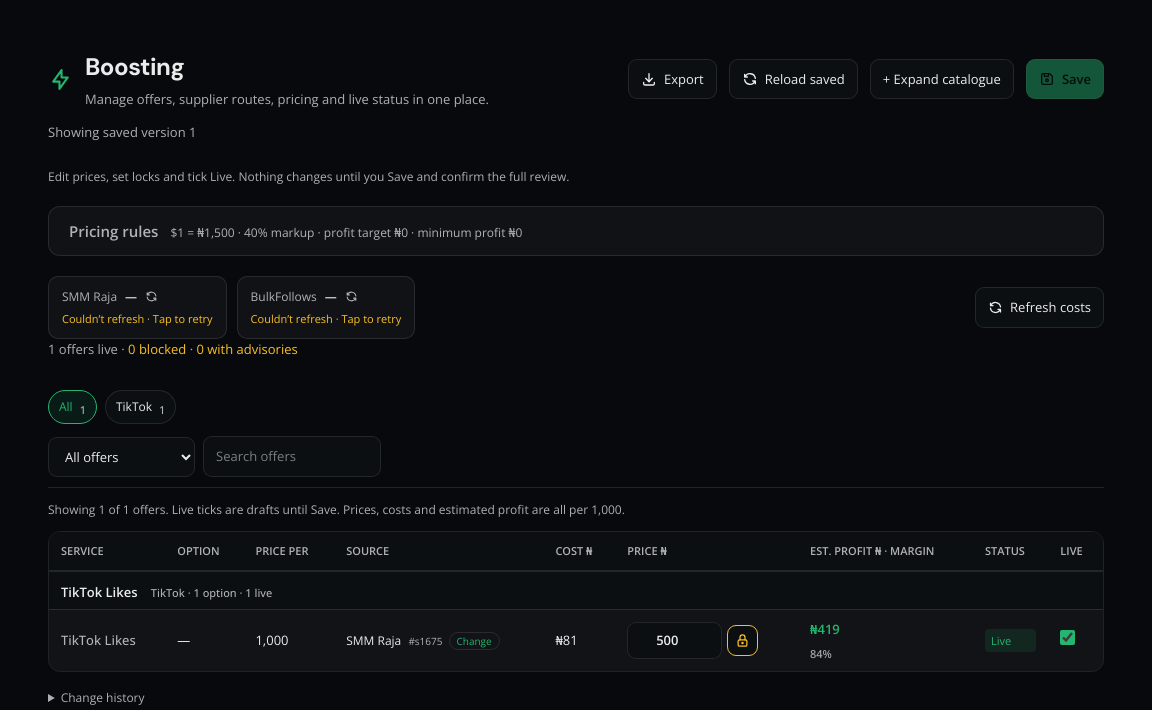
Test: cancels or confirms discarding a draft without making a server write
This screenshot has width=1152, height=710.
Replace the text in the number field named "Price for TikTok Likes value" with "900". click: (675, 640)
box: top-left (627, 622), bottom-right (722, 659)
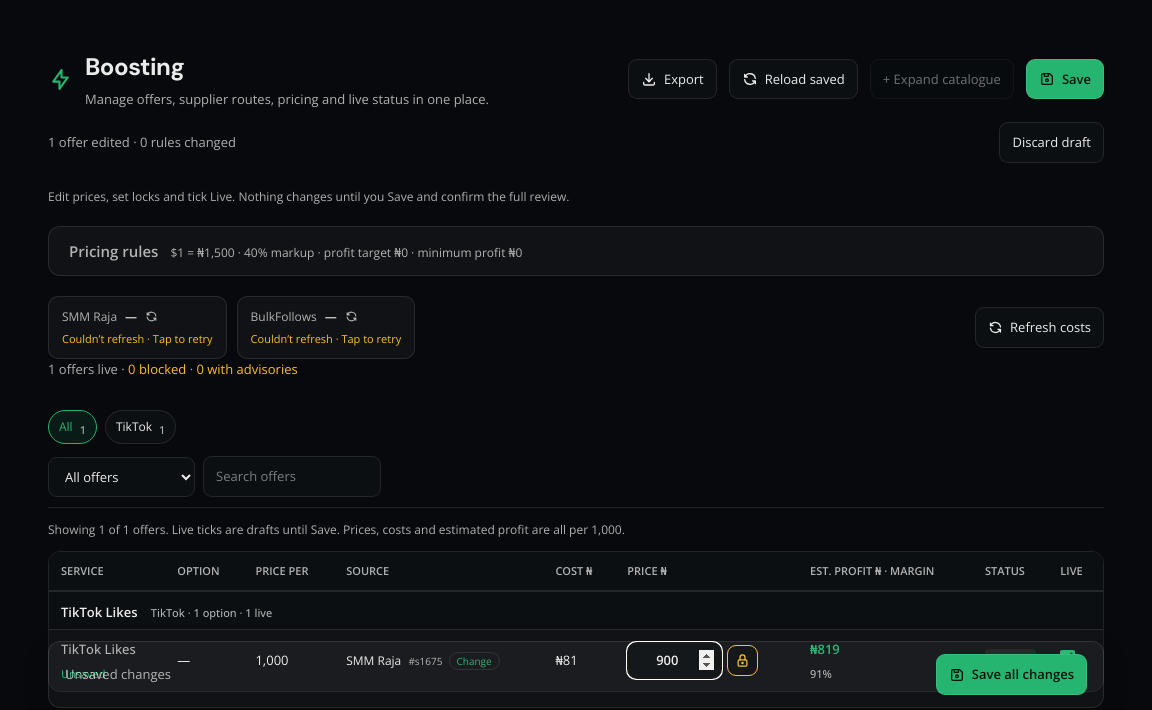
Click the button "Discard draft". click: click(1052, 143)
box: top-left (1000, 122), bottom-right (1104, 163)
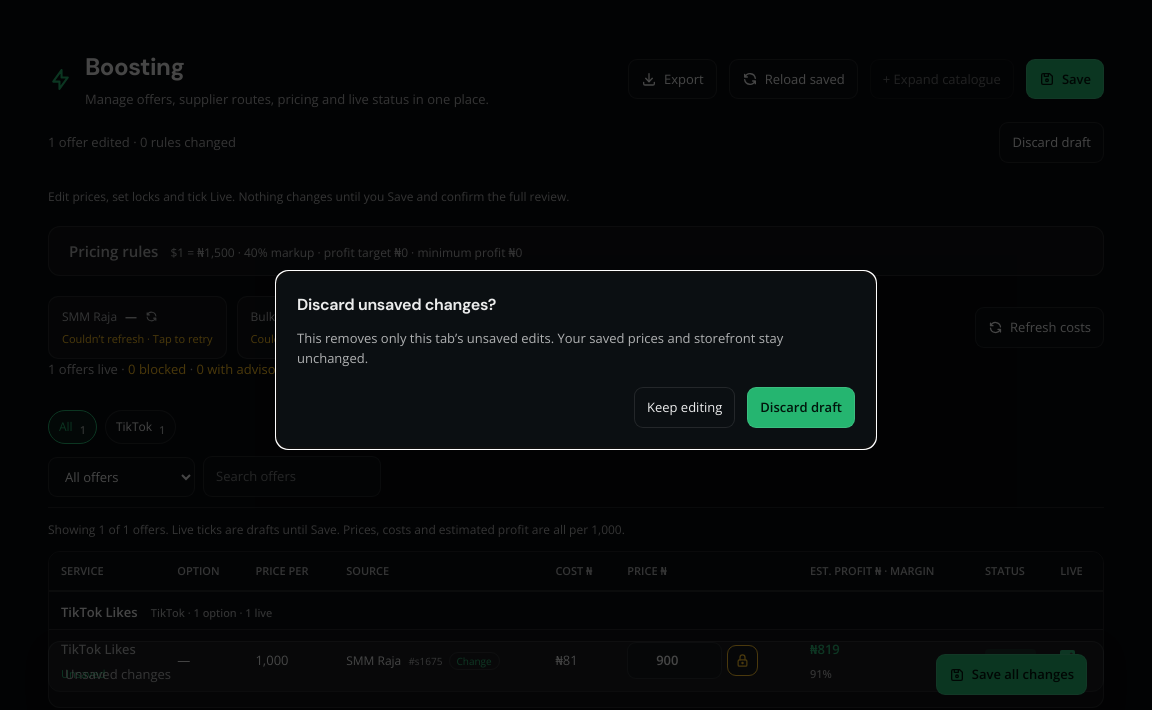
Click the button "Keep editing". click: click(685, 408)
box: top-left (634, 387), bottom-right (735, 428)
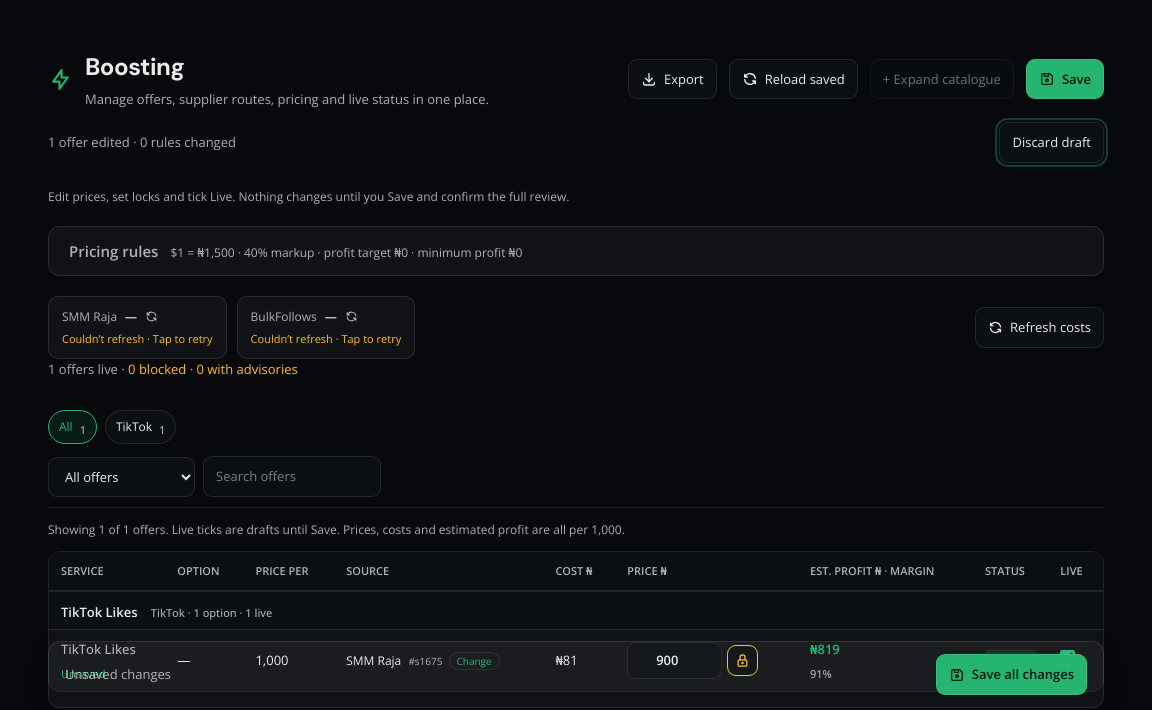
Click the button "Discard draft". click: click(1052, 143)
box: top-left (1000, 122), bottom-right (1104, 163)
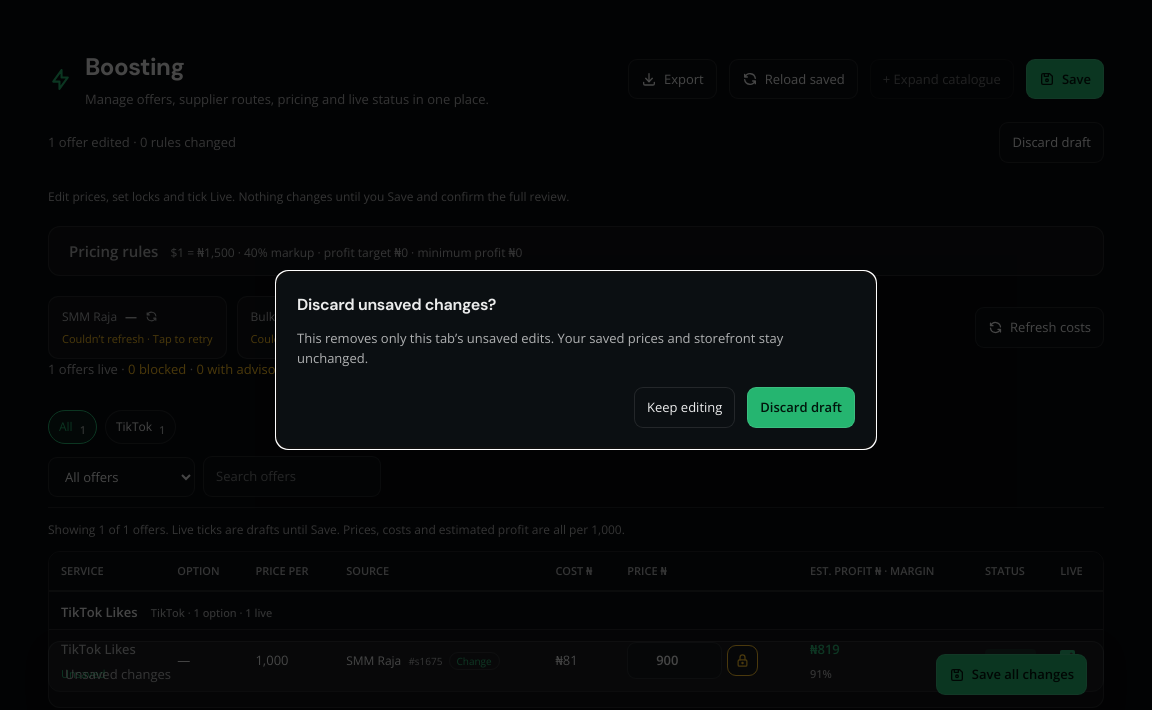
Click the button "Discard draft". click: click(801, 408)
box: top-left (747, 387), bottom-right (855, 428)
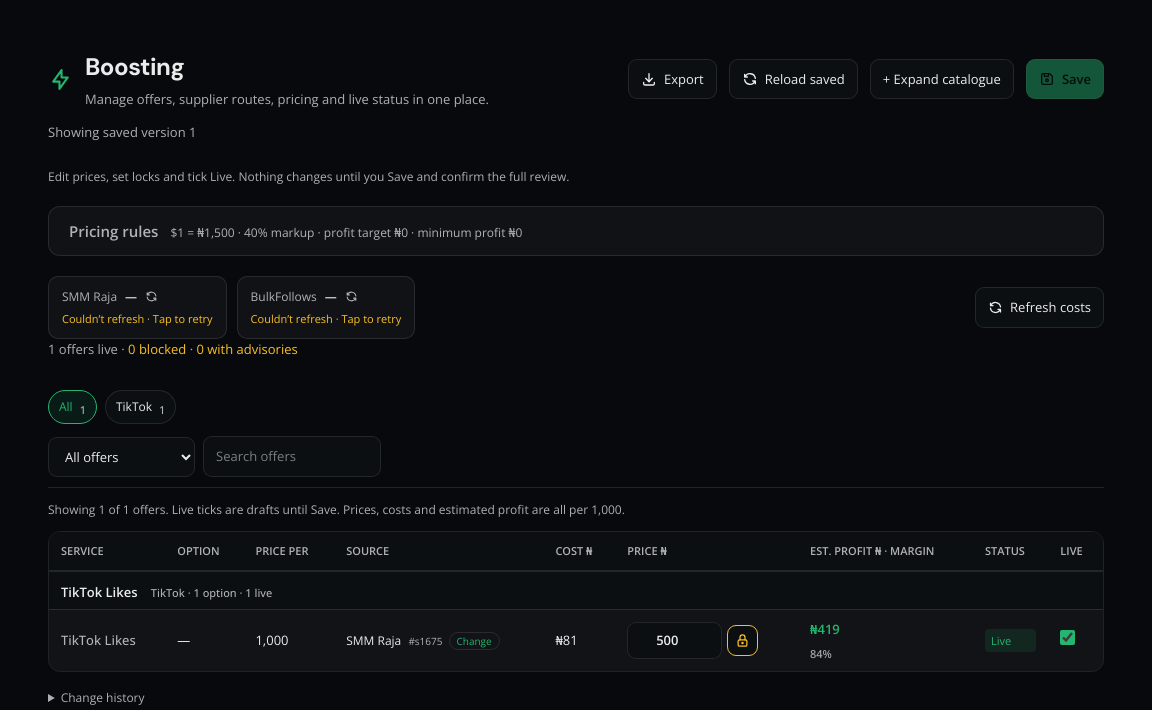
expect the number field named "Price for TikTok Likes value" holds "500": met, box top-left (627, 622), bottom-right (722, 659)
expect the button "Save" is disabled: met, box top-left (1026, 59), bottom-right (1104, 100)
